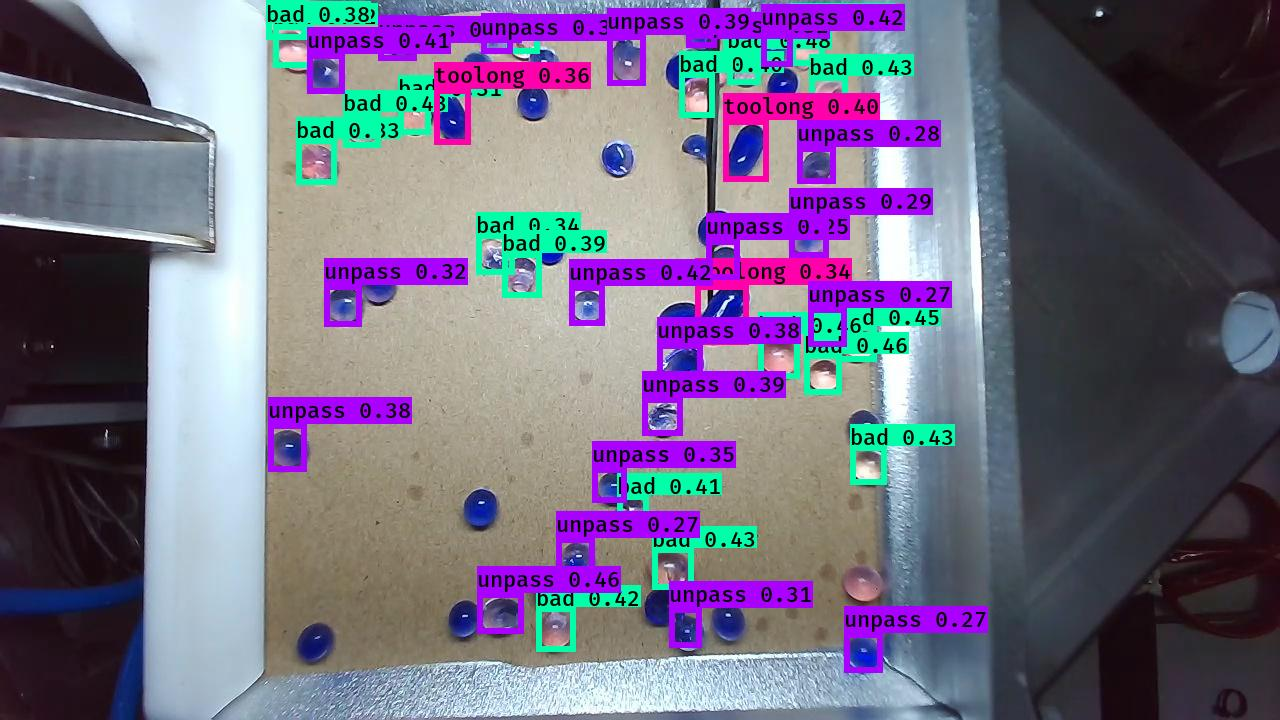bad: (647, 547, 692, 590), (678, 76, 719, 120), (841, 563, 885, 604), (275, 30, 318, 71), (298, 145, 340, 186), (760, 334, 799, 378), (535, 611, 576, 651), (849, 446, 889, 485), (789, 24, 822, 71), (472, 237, 515, 273), (723, 14, 758, 57), (509, 251, 540, 298), (504, 21, 541, 60), (838, 327, 877, 364), (397, 96, 432, 137), (805, 360, 844, 396), (813, 78, 850, 114), (731, 51, 765, 87), (267, 4, 304, 37), (616, 496, 649, 532), (344, 113, 380, 146)
defact: (678, 133, 719, 165)
pass: (654, 296, 700, 341), (296, 621, 336, 667), (360, 267, 403, 309), (529, 567, 570, 609), (663, 44, 699, 89), (643, 587, 683, 627), (847, 410, 883, 452), (464, 489, 499, 531), (712, 601, 747, 643), (382, 19, 417, 59), (535, 228, 568, 270), (765, 67, 800, 106), (697, 208, 733, 245), (516, 83, 549, 123), (449, 599, 480, 640), (463, 51, 495, 90)
toolong: (699, 280, 753, 346), (429, 88, 472, 147), (724, 122, 767, 180)
unpass: (606, 35, 647, 85), (478, 593, 523, 635), (659, 347, 704, 387), (706, 240, 745, 286), (267, 431, 311, 471), (845, 630, 884, 674), (327, 282, 367, 323), (798, 148, 837, 188), (308, 55, 346, 96), (645, 398, 681, 440), (789, 222, 827, 260), (558, 542, 596, 580), (808, 310, 845, 348), (477, 13, 511, 54), (600, 140, 636, 178), (685, 13, 720, 51), (669, 618, 708, 651), (757, 31, 788, 70), (572, 288, 604, 325), (595, 473, 630, 505), (527, 49, 560, 81)
